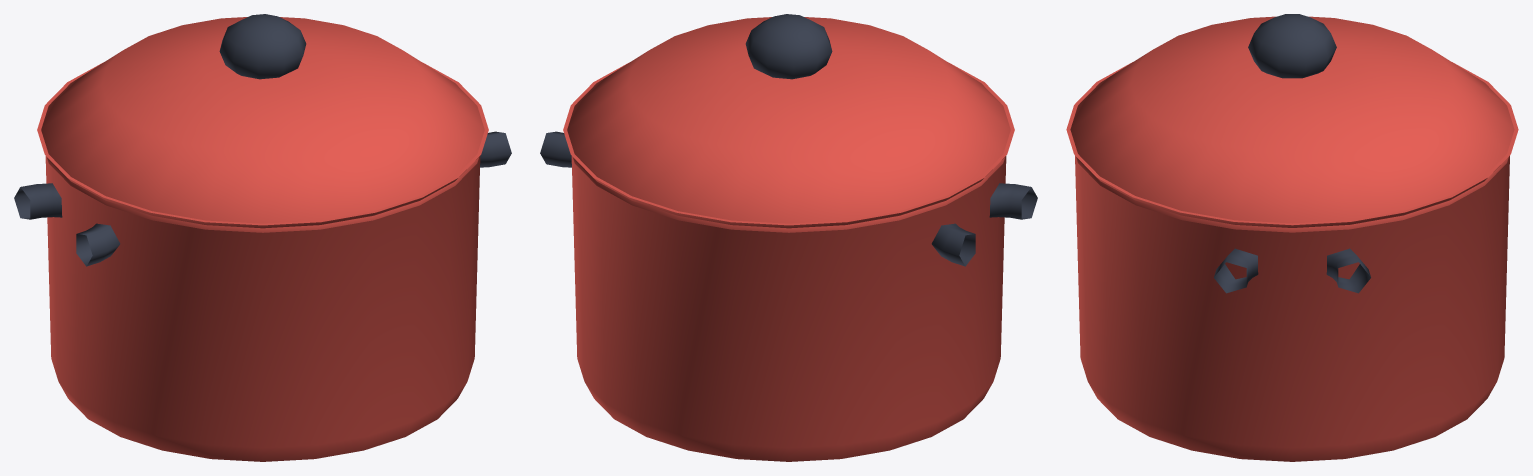
File: panela.glb
The picture shows the model from 3 angles, left to right: view 1: azimuth 30°, elevation 25°; view 2: azimuth 150°, elevation 25°; view 3: azimuth 270°, elevation 25°; orthographic projection.
Parts seen in each view (by area): view 1: panela; view 2: panela; view 3: panela.
Boxes of the visible parts, x1,y1,x2,y2 form: panela: (14, 14, 511, 461); panela: (540, 14, 1037, 461); panela: (1066, 14, 1518, 461).
Bounding box in the file's own units: 0.24 × 0.1954 × 0.224.
